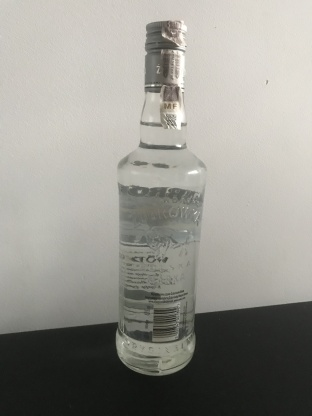nakretka: (143, 18, 188, 93)
